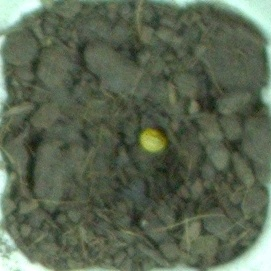pepper seed: (53, 49, 223, 205)
